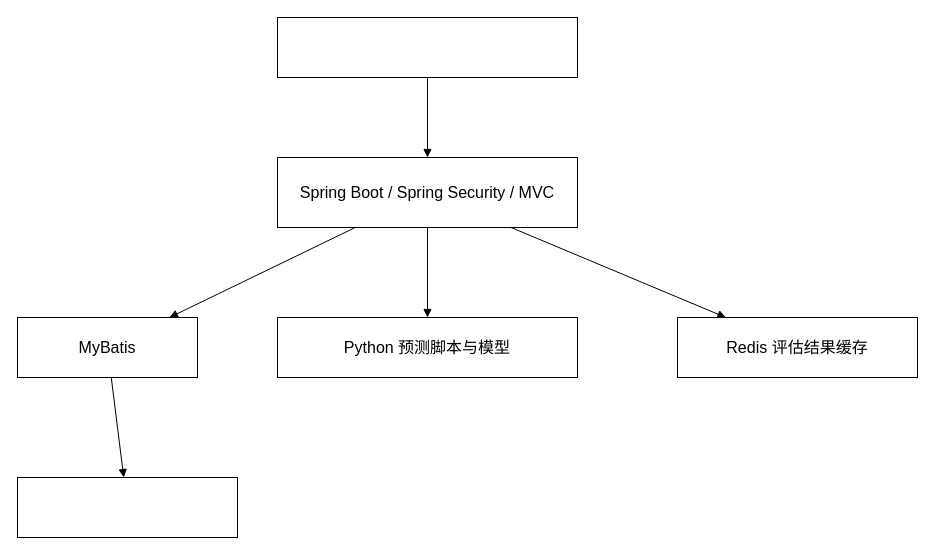
This 935x555 diagram has some shape labels left out. Each missing label, with the box of its shape:
MySQL：prediction_record: (16, 476, 238, 538)
浏览器：Vue 2 + Element UI: (276, 16, 578, 78)
